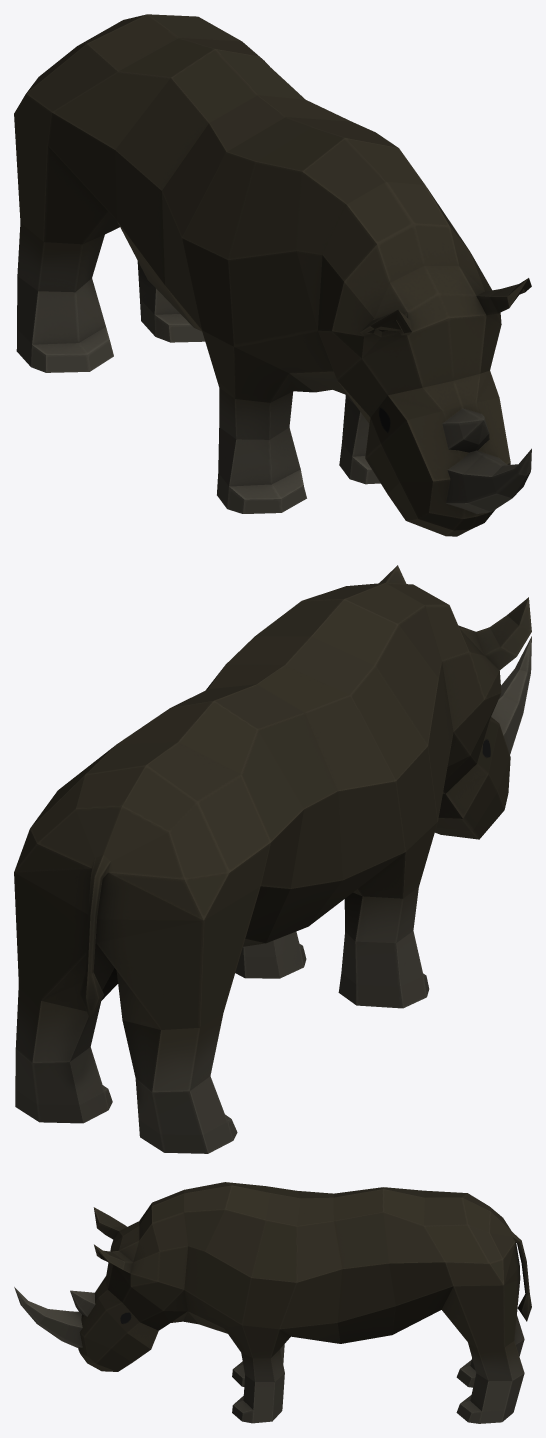
File: Rhinoceros.gltf
3 renders of one model, top to bottom at view 1: azimuth 30°, elevation 25°; view 2: azimuth 150°, elevation 25°; view 3: azimuth 270°, elevation 25°, orthographic. The views are drawn at different scales.
Visible parts, largest first — view 1: node-0; view 2: node-0; view 3: node-0.
Part boxes in pixels (left/top/right/bottom): node-0: left=14, top=14, right=531, bottom=536; node-0: left=14, top=565, right=531, bottom=1153; node-0: left=14, top=1182, right=531, bottom=1423.
Size of the model in its own units: 6.89 by 10.91 by 24.43.
Materials: 1 (1 with a texture image).
